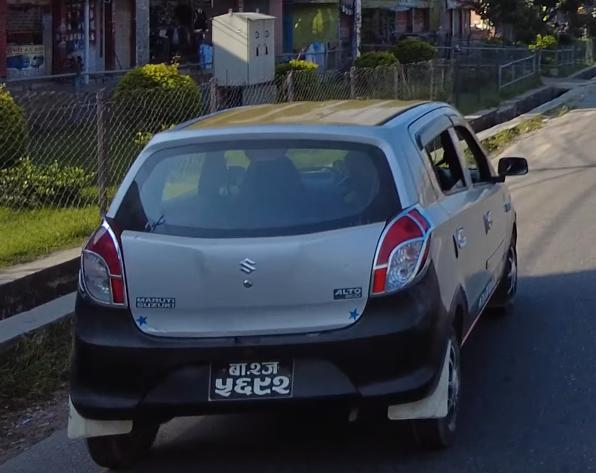taxi: (66, 88, 531, 452)
